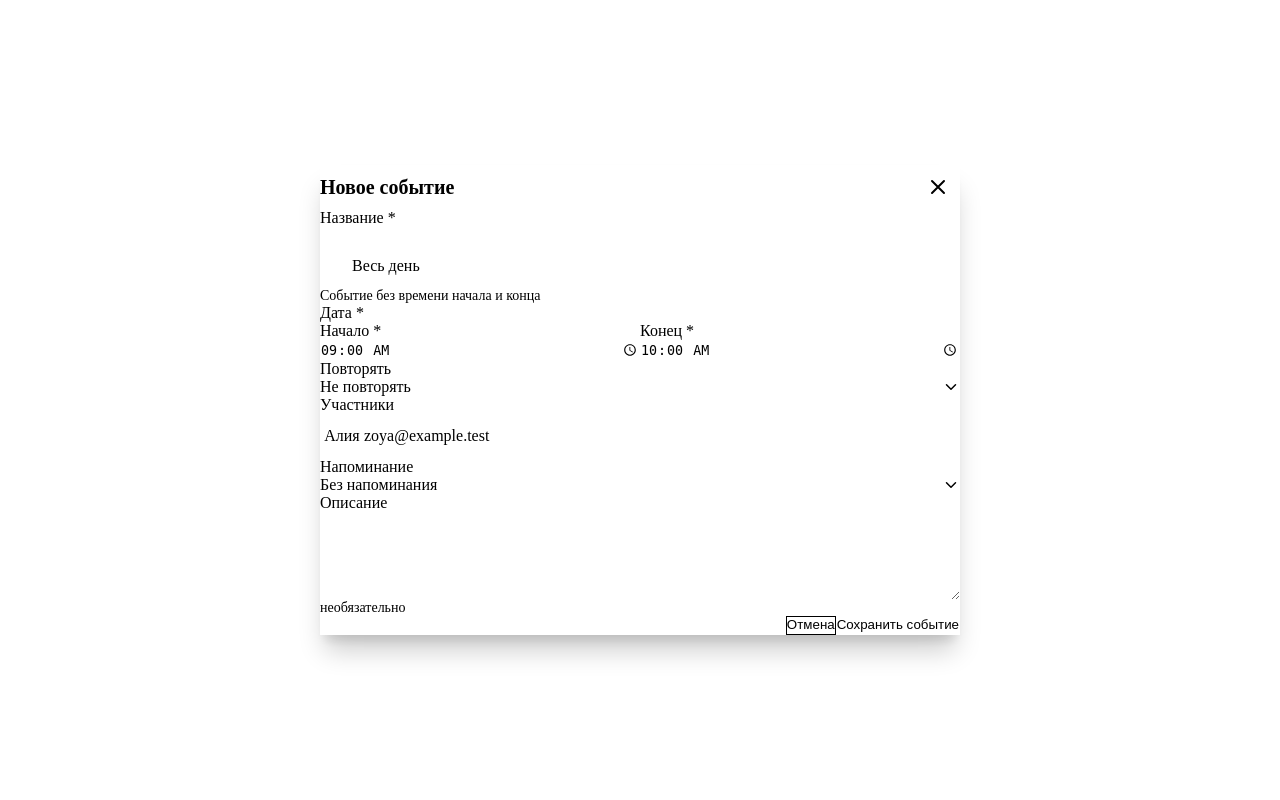
Test: CalendarEventForm › swaps the times for an end date when the event lasts all day
Click the switch with test id "calendar-event-all-day": (370, 266) [320,244,420,288]
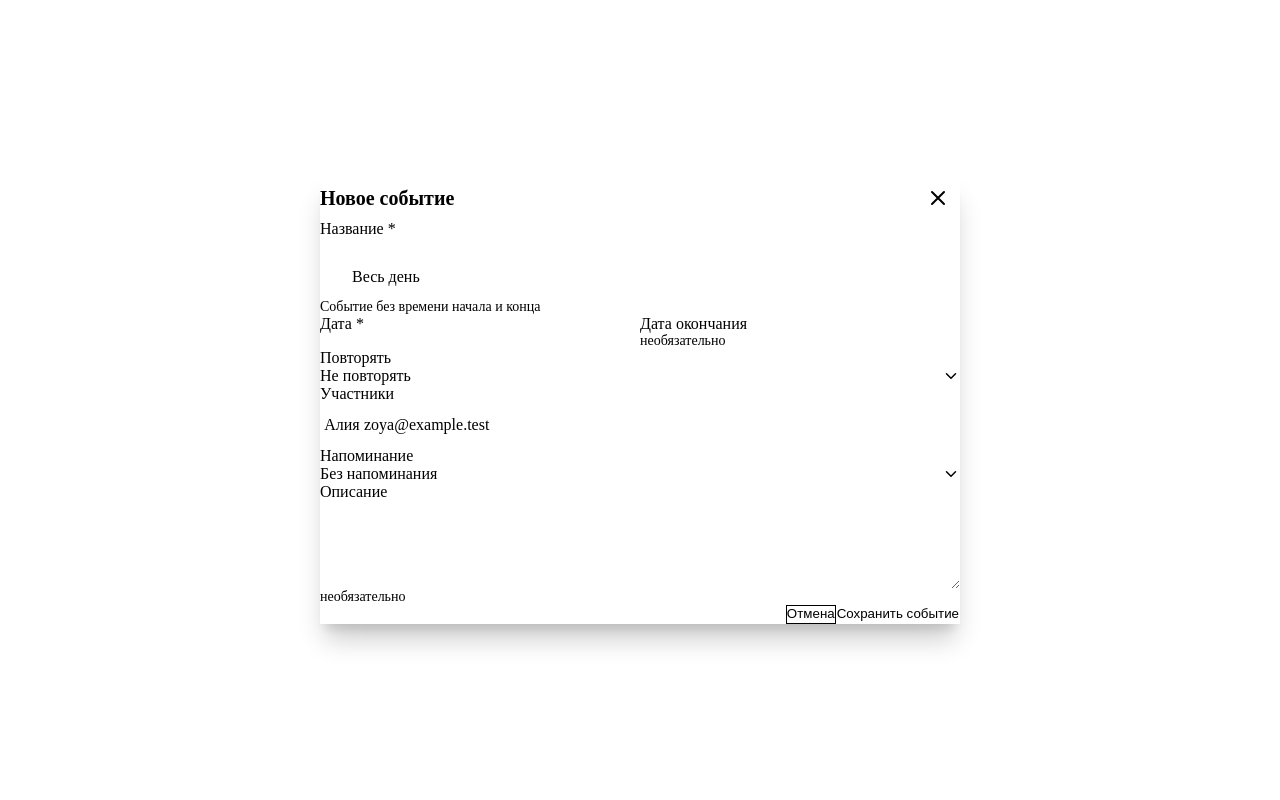
expect the text "Дата окончания" is shown: met, box [640,315,747,333]
